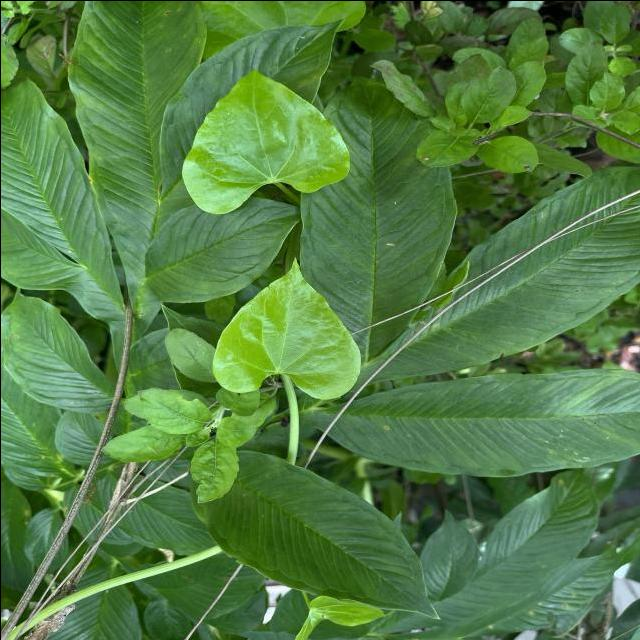Tinospora cordifolia: (178, 64, 350, 218), (208, 253, 364, 402)
